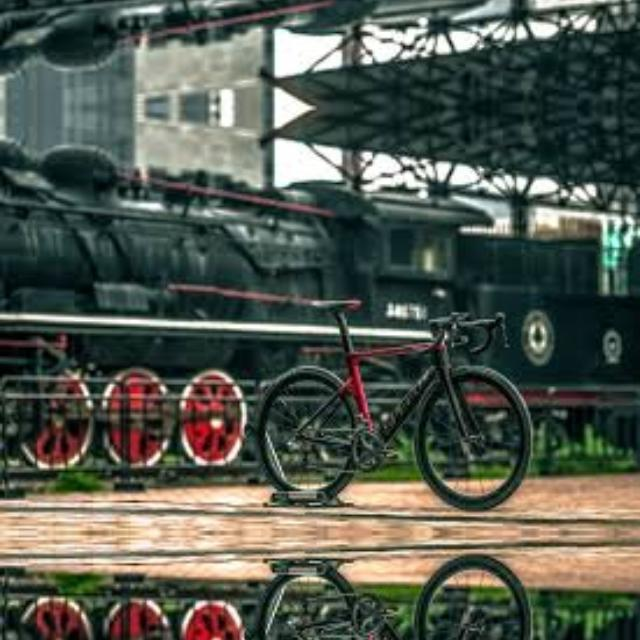obstacle: (241, 276, 561, 514), (241, 552, 561, 640)
